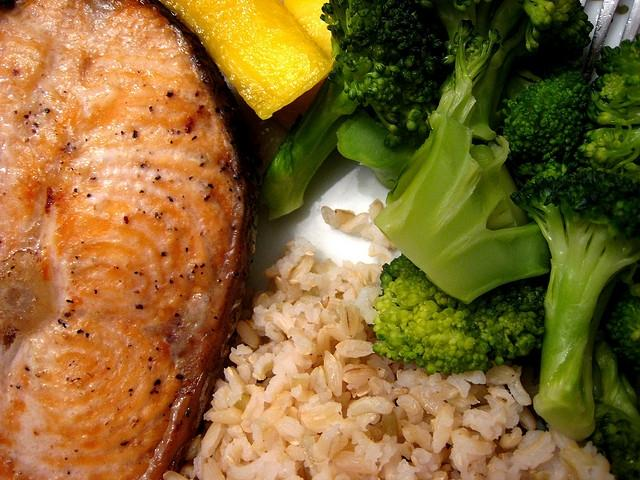broccoli: (374, 19, 550, 308), (260, 2, 453, 220), (514, 152, 640, 442), (371, 253, 547, 375), (496, 70, 590, 184), (575, 34, 640, 184), (588, 331, 640, 480), (336, 110, 420, 188), (606, 294, 640, 368)
